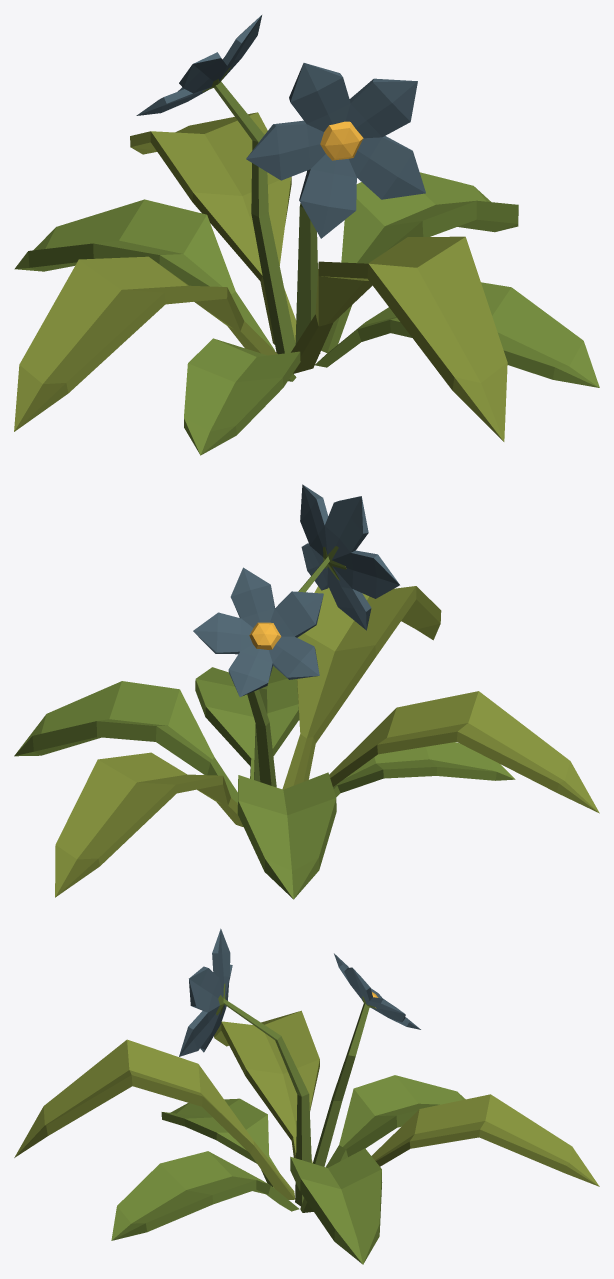
File: Flower_1.fbx
3 views of the same model, one above another, from view 1: azimuth 30°, elevation 25°; view 2: azimuth 150°, elevation 25°; view 3: azimuth 270°, elevation 25° (orthographic). The views are drawn at different scales.
Visible parts, largest first — view 1: Flower_1; view 2: Flower_1; view 3: Flower_1.
Boxes of the visible parts, left/top/right/bottom form: Flower_1: left=14, top=15, right=599, bottom=455; Flower_1: left=14, top=484, right=599, bottom=899; Flower_1: left=14, top=928, right=599, bottom=1264.
Bounding box in the file's own units: 54.33 × 30.35 × 63.58.
